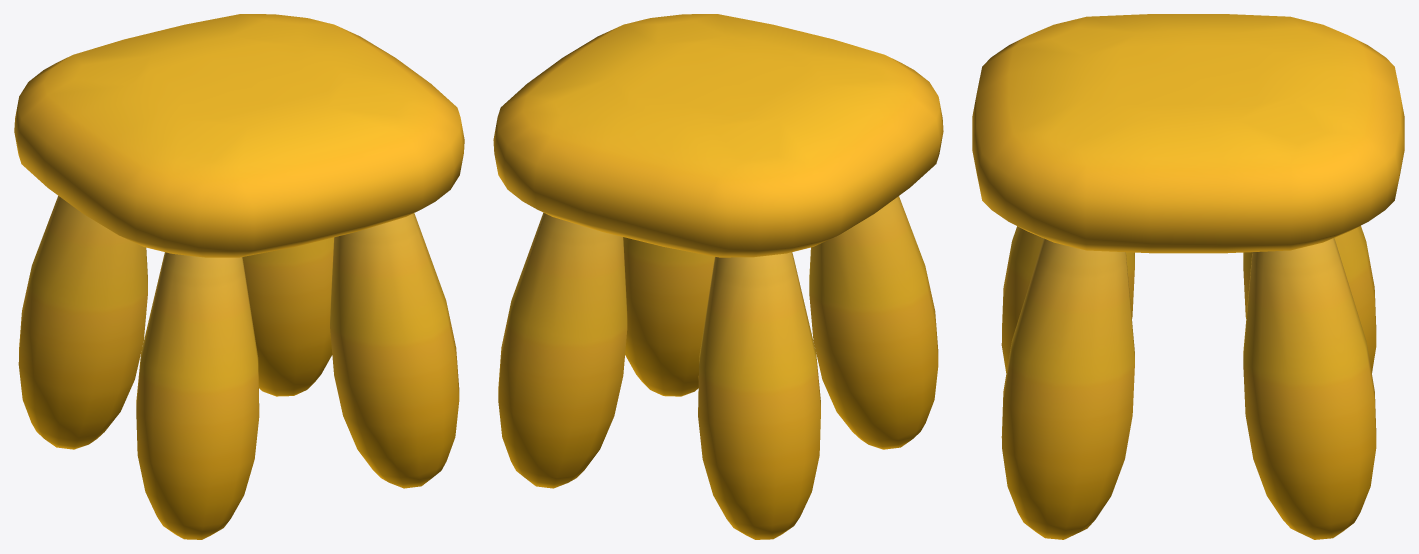
The model's file is Chair_06.glb.
The picture shows the model from 3 angles, left to right: view 1: azimuth 30°, elevation 25°; view 2: azimuth 150°, elevation 25°; view 3: azimuth 270°, elevation 25°; orthographic projection. The views are drawn at different scales.
Visible parts, largest first — view 1: Chair_06; view 2: Chair_06; view 3: Chair_06.
Part boxes in pixels (box(x1,y1,x2,y2)): Chair_06: box(14, 14, 464, 539); Chair_06: box(493, 14, 943, 539); Chair_06: box(972, 14, 1404, 539).
Bounding box in the file's own units: 0.3 × 0.3106 × 0.3.
1 material, 1 textured.
